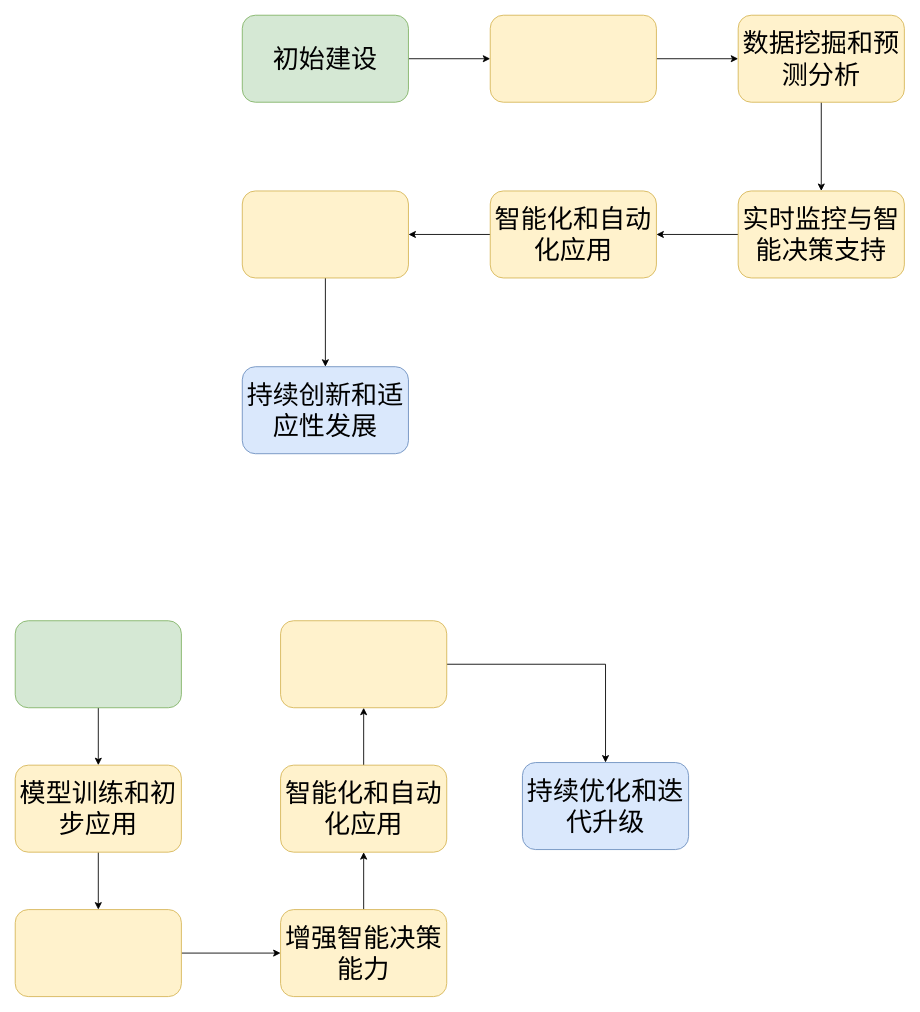
Image size: 920x1012. Some labels were removed from this diagram. Each missing label, with the box of its shape:
人机协同和监管专业化: (280, 620, 447, 708)
技术优化升级: (489, 14, 656, 102)
数据优化和模型更新: (14, 909, 181, 997)
综合优化和协同升级: (241, 190, 408, 278)
需求分析和模型设计: (14, 620, 181, 708)
